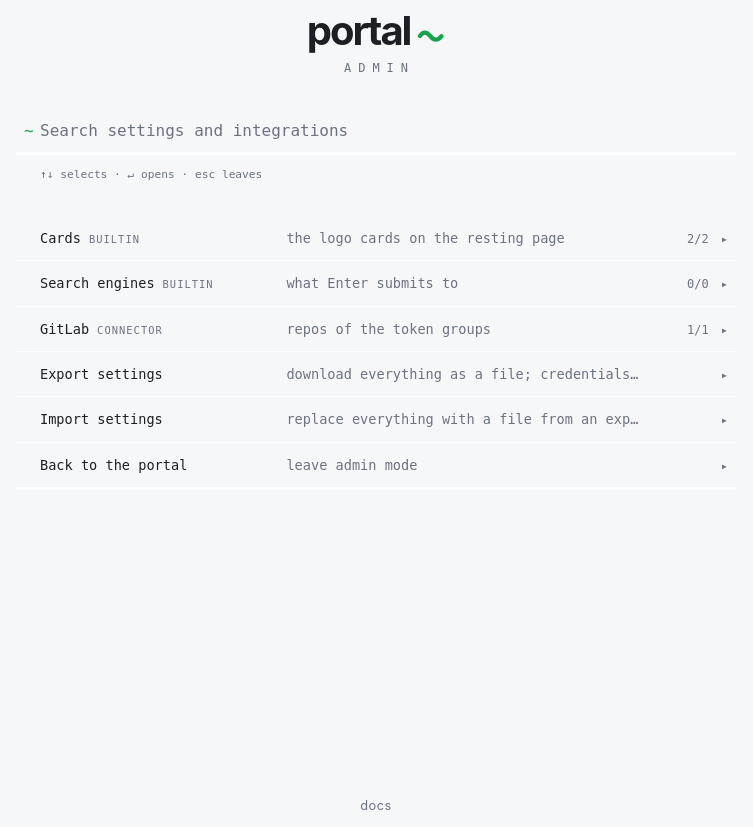
opening a feature › fetches its rows and renders them
The image size is (753, 827).
What coordinates should you click on to do the following:
click the list item "Cards builtin the logo cards on the resting page 2/2 ▸"
I would click on:
 (384, 238)
Its box is [40,230,728,246].
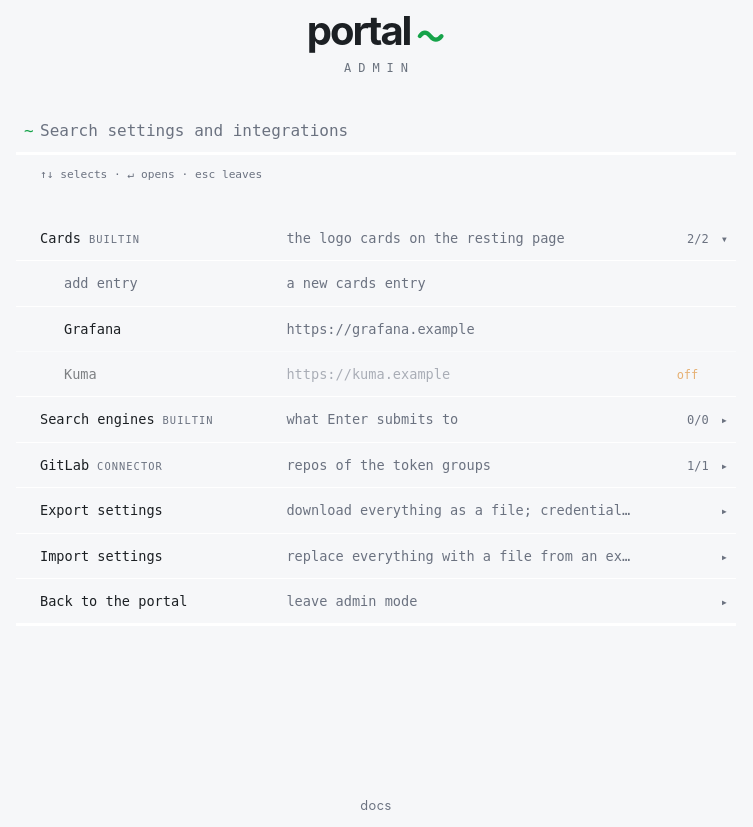
Expected: the list item "Grafana https://grafana.example" is shown, [16,306,736,351]
